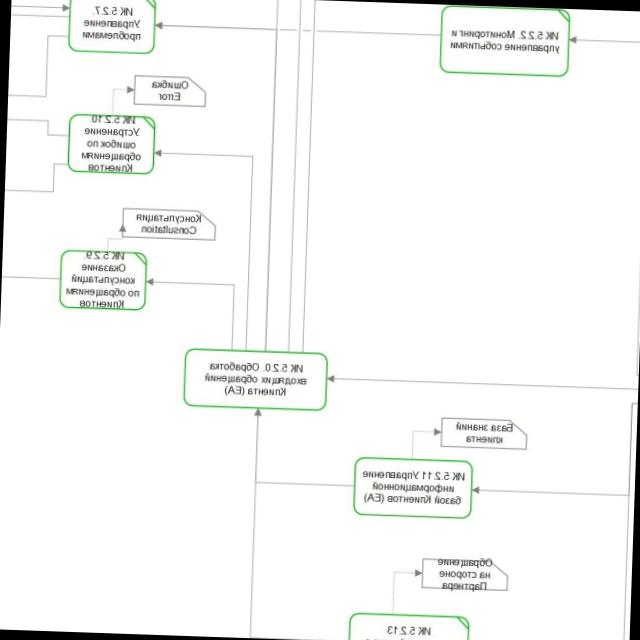arrow: (147, 148, 255, 351), (250, 407, 357, 487), (144, 277, 236, 351), (154, 20, 440, 41), (66, 112, 157, 176), (58, 248, 148, 312), (66, 0, 157, 55)
rectangle: (439, 4, 570, 77), (182, 348, 327, 411), (352, 456, 472, 519)
text_region: (434, 557, 493, 592), (134, 212, 202, 236), (452, 420, 517, 445), (151, 78, 189, 101)
